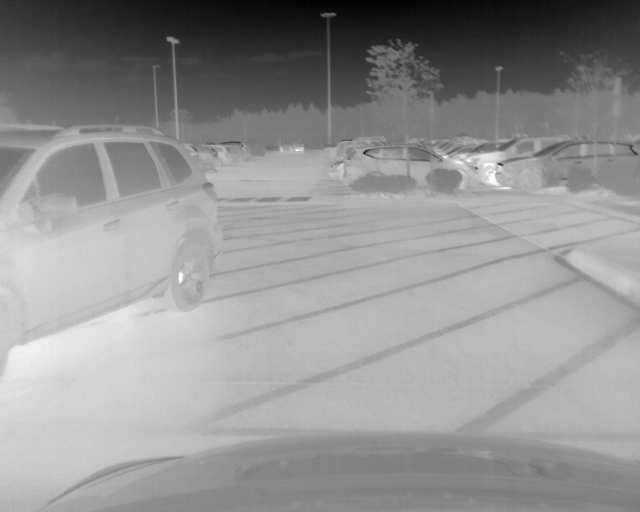car: (2, 122, 224, 370), (496, 139, 640, 193), (342, 144, 479, 191), (466, 136, 581, 189), (185, 143, 220, 168), (223, 141, 251, 162), (211, 143, 234, 166), (277, 139, 305, 154)
